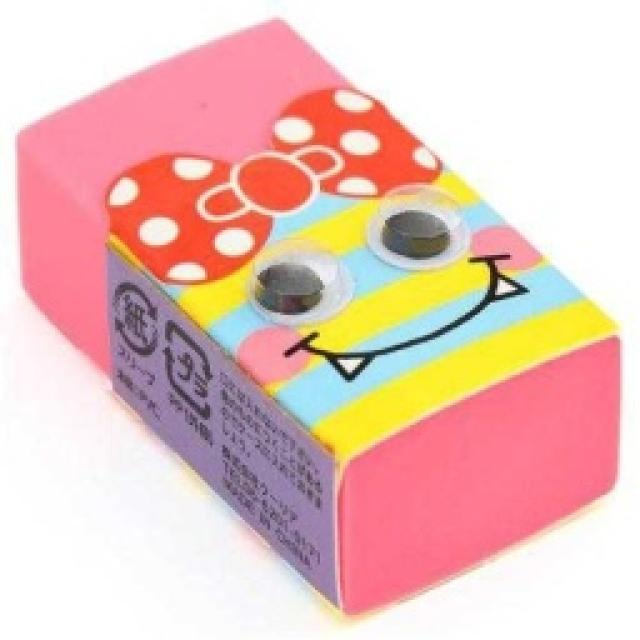Silgi: (18, 12, 621, 614)
